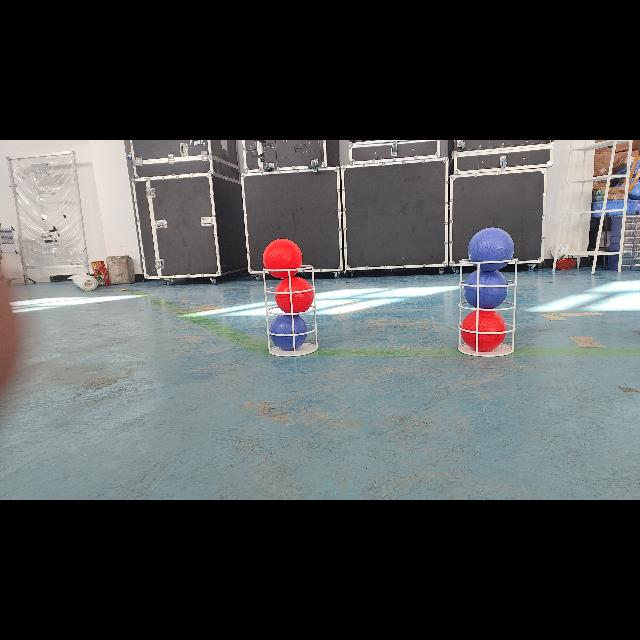B: (468, 228, 514, 272), (464, 268, 508, 310), (268, 315, 310, 351)
R: (463, 308, 509, 349), (262, 237, 304, 279), (276, 276, 314, 314)
S: (454, 258, 522, 358), (258, 264, 322, 358)
